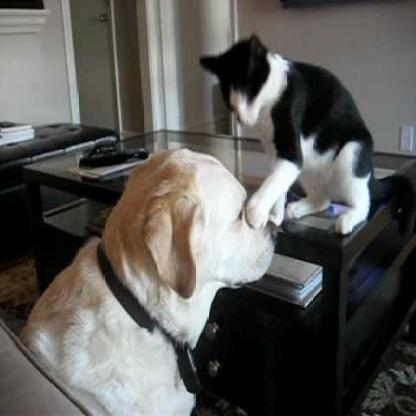cat: (195, 30, 415, 232)
dog: (14, 141, 282, 415)
